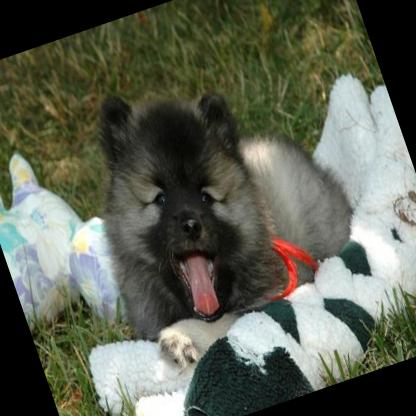keeshond: (54, 27, 379, 376)
